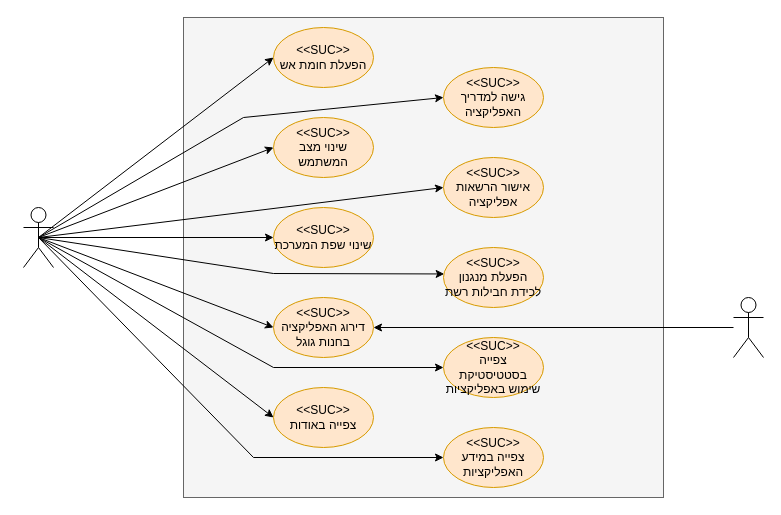
This 781x515 diagram has some shape labels left out. The box of each missing label's shape, as (x1, y1, x2, y2) in pixels:
גוגל: (732, 296, 764, 358)
משתמש: (22, 206, 54, 268)
